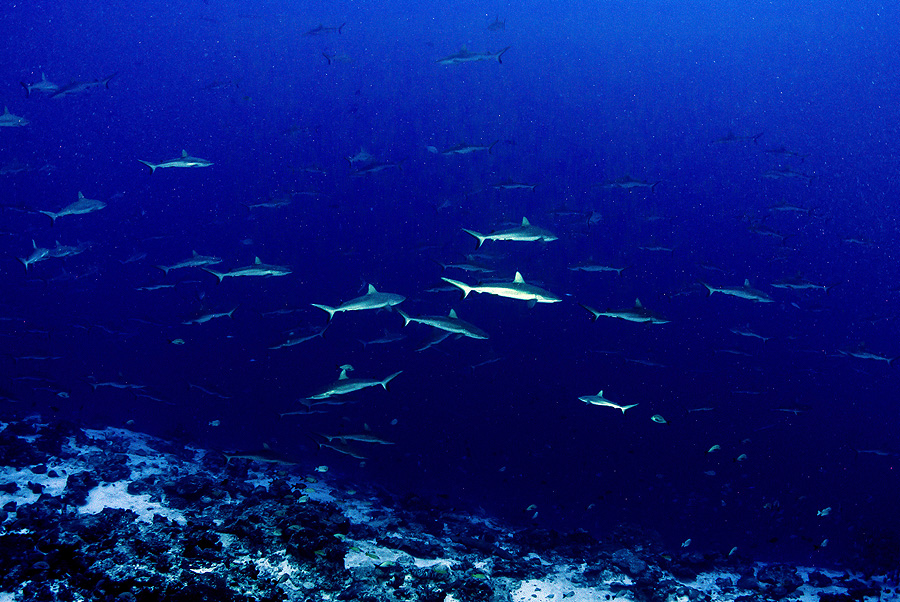Carcharhinus_amblyrhynchos: (445, 270, 571, 315), (27, 185, 133, 229), (458, 213, 568, 254), (395, 310, 493, 354), (304, 362, 403, 401), (132, 139, 232, 177), (581, 292, 669, 334), (316, 282, 411, 316), (567, 381, 642, 419), (699, 279, 777, 314), (208, 262, 309, 286)
